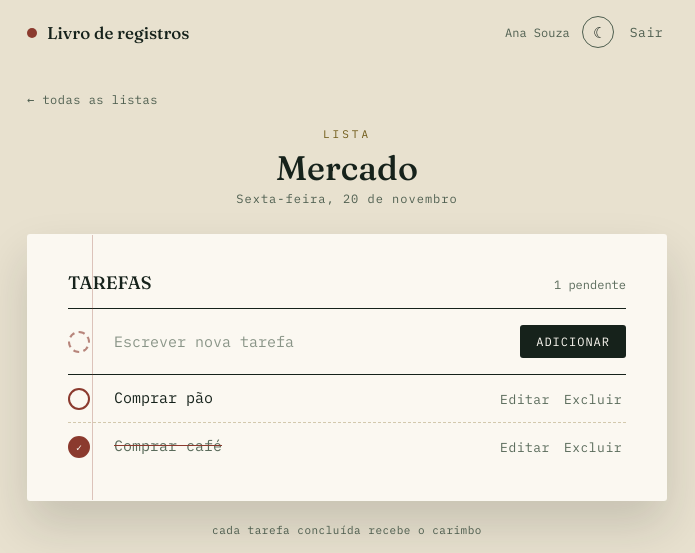
Scenario: TasksPage › exclui uma tarefa
Click the button named "Excluir \"Comprar pão\"": point(593, 400) [560,389,626,410]
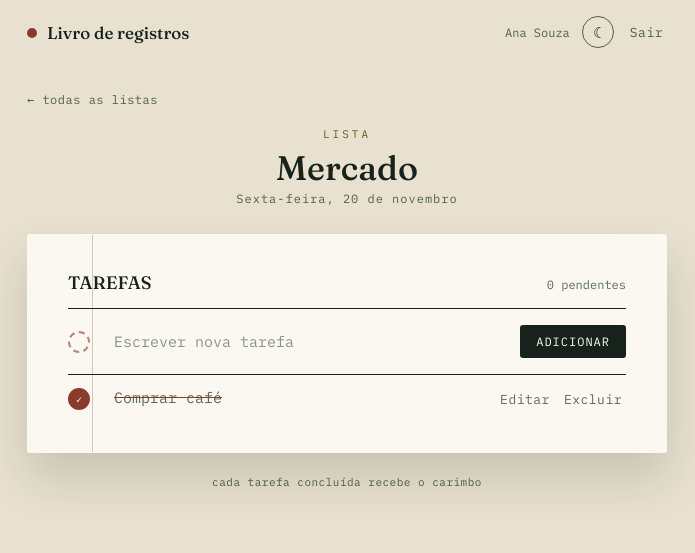
Expected: the text "Comprar pão" is gone
